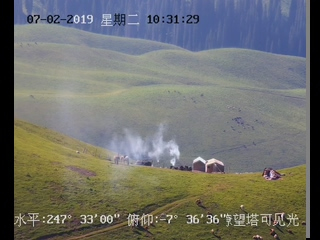smoke: (110, 124, 182, 169)
